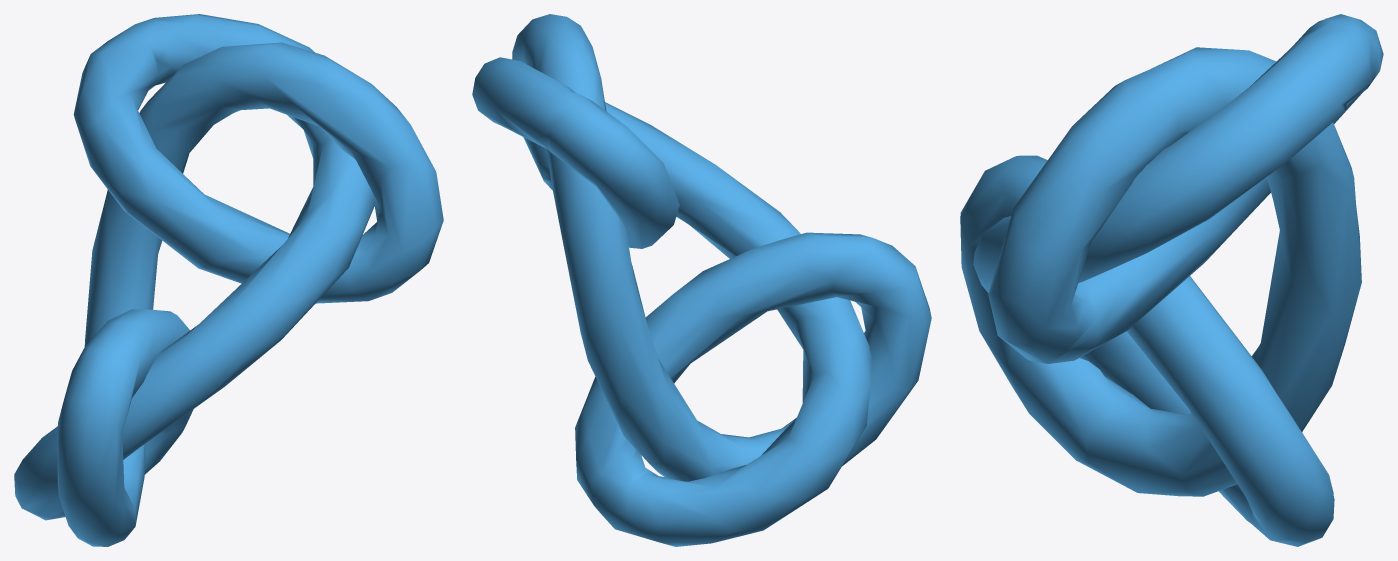
The model's file is knot_sculpture_knot004.gltf.
3 views of the same model, side by side, from view 1: azimuth 30°, elevation 25°; view 2: azimuth 150°, elevation 25°; view 3: azimuth 270°, elevation 25° (orthographic). The views are drawn at different scales.
Parts seen in each view (by area): view 1: Knot.004; view 2: Knot.004; view 3: Knot.004.
Part boxes in pixels (<box>): Knot.004: <box>14,14,443,546</box>; Knot.004: <box>472,14,931,546</box>; Knot.004: <box>960,14,1383,546</box>.
Bounding box in the file's own units: 0.9593 × 1.05 × 0.7093.
